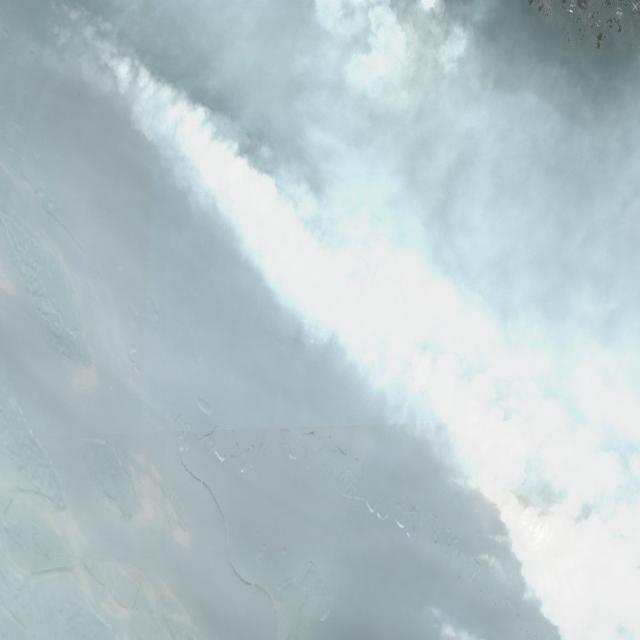fire: (51, 0, 514, 640)
